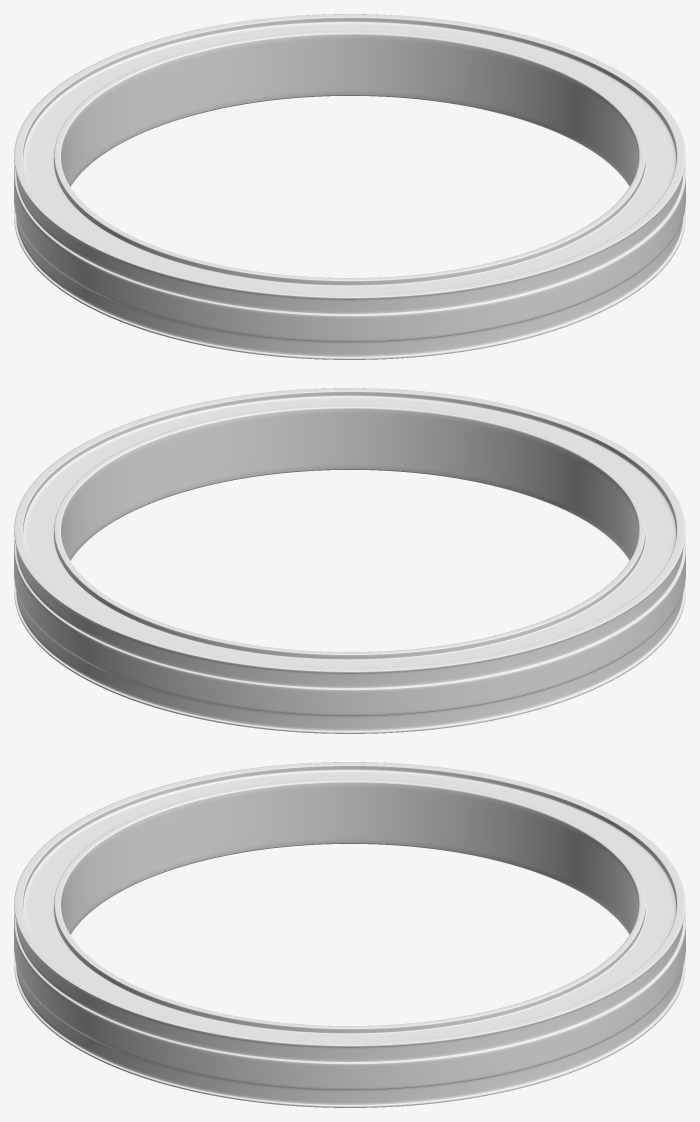
Rendered from Crypto2_outmesh.gltf.
3 views of the same model, one above another, from view 1: azimuth 30°, elevation 25°; view 2: azimuth 150°, elevation 25°; view 3: azimuth 270°, elevation 25° (orthographic).
Visible parts, largest first — view 1: OutSilver.001; view 2: OutSilver.001; view 3: OutSilver.001.
Boxes of the visible parts, x1,y1,x2,y2 form: OutSilver.001: (14,14,685,359); OutSilver.001: (14,388,685,733); OutSilver.001: (14,762,685,1107).
Bounding box in the file's own units: 2.02 × 0.2074 × 2.02.
Materials: 1 (1 with a texture image).
